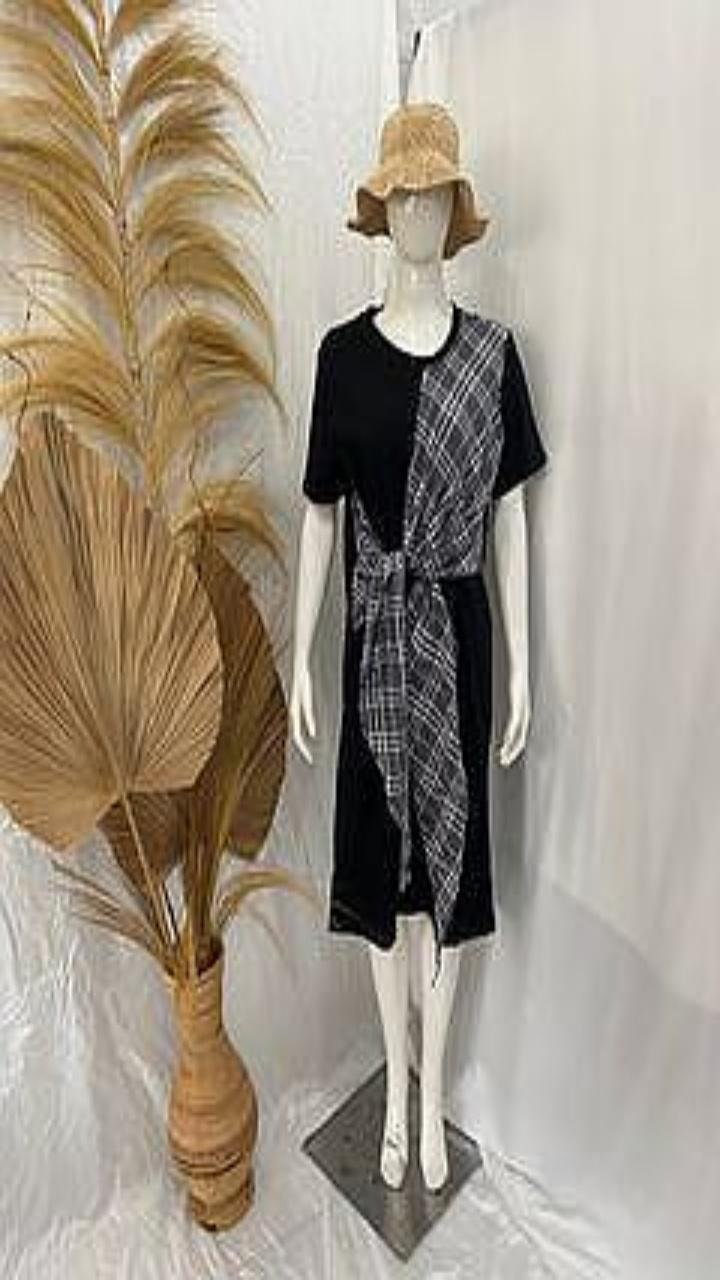Dresses: (303, 305, 545, 946)
